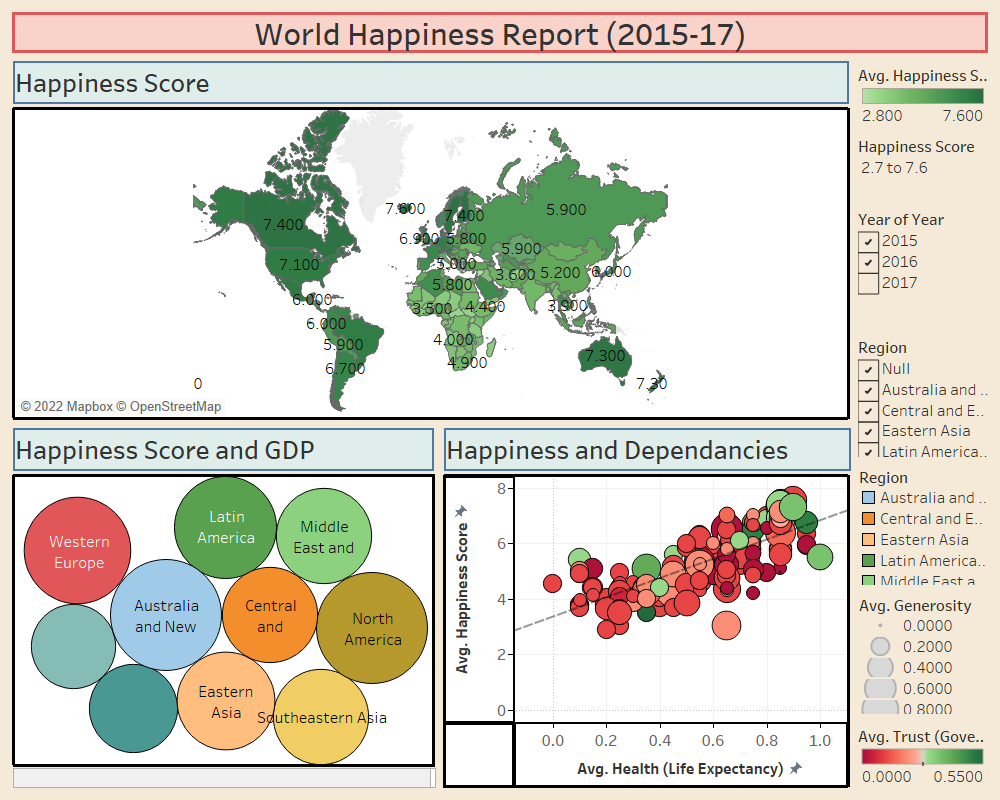

This screenshot's page, from the dashboard's own definition file:
{"tool":"tableau","page":{"name":"Final_Dashboard","canvas":[1000,800],"ordinal":0},"visuals":[{"type":"title","box":[8,8,984,49]},{"type":"worksheet","title":"World_map","mark":"Automatic","box":[8,57,846,367.5]},{"type":"legend","title":"World_map","param":"[federated.0cwwpek1bfcaz21976m8e0uqh4pi].[avg:Happiness Score:qk]","box":[854,57,138,73]},{"type":"filter","title":"World_map","param":"[federated.0cwwpek1bfcaz21976m8e0uqh4pi].[none:Happiness Score:qk]","box":[854,130,138,73]},{"type":"filter","title":"World_map","param":"[federated.0cwwpek1bfcaz21976m8e0uqh4pi].[none:Year of Year:ok]","box":[854,203,138,128]},{"type":"filter","title":"World_map","param":"[federated.0cwwpek1bfcaz21976m8e0uqh4pi].[none:Region:nk]","box":[854,331,138,137]},{"type":"worksheet","title":"gdp v happiness","mark":"Circle","box":[8,424.5,431.2,367.5]},{"type":"worksheet","title":"Dependancies mix","mark":"Circle","rows":["Happiness Score"],"cols":["Health (Life Expectancy)"],"box":[439.2,424.5,414.8,367.5]},{"type":"legend","title":"gdp v happiness","param":"[federated.0cwwpek1bfcaz21976m8e0uqh4pi].[none:Region:nk]","box":[854,468,138,137]},{"type":"legend","title":"Dependancies mix","param":"[federated.0cwwpek1bfcaz21976m8e0uqh4pi].[avg:Generosity:qk]","box":[854,605,138,114]},{"type":"legend","title":"Dependancies mix","param":"[federated.0cwwpek1bfcaz21976m8e0uqh4pi].[avg:Trust (Government Corruption):qk]","box":[854,719,138,73]}]}

Visuals, with their boxes in screenshot pixels (x1, y1, x2, y2), scaled from the page's 1000x800 canvas onto the 1000x800 screenshot:
title: bbox(8, 8, 992, 57)
"World_map" worksheet: bbox(8, 57, 854, 424)
"World_map" legend: bbox(854, 57, 992, 130)
"World_map" filter: bbox(854, 130, 992, 203)
"World_map" filter: bbox(854, 203, 992, 331)
"World_map" filter: bbox(854, 331, 992, 468)
"gdp v happiness" worksheet (Circle marks): bbox(8, 424, 439, 792)
"Dependancies mix" worksheet (Circle marks): bbox(439, 424, 854, 792)
"gdp v happiness" legend: bbox(854, 468, 992, 605)
"Dependancies mix" legend: bbox(854, 605, 992, 719)
"Dependancies mix" legend: bbox(854, 719, 992, 792)
